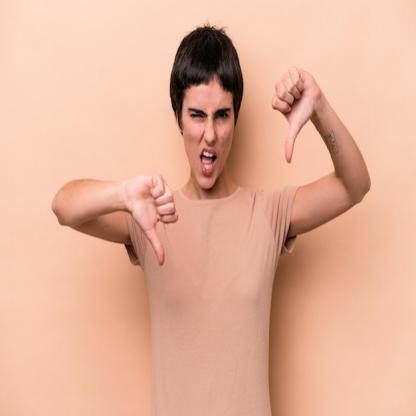thumb_down: (272, 63, 324, 169), (128, 168, 182, 268)
